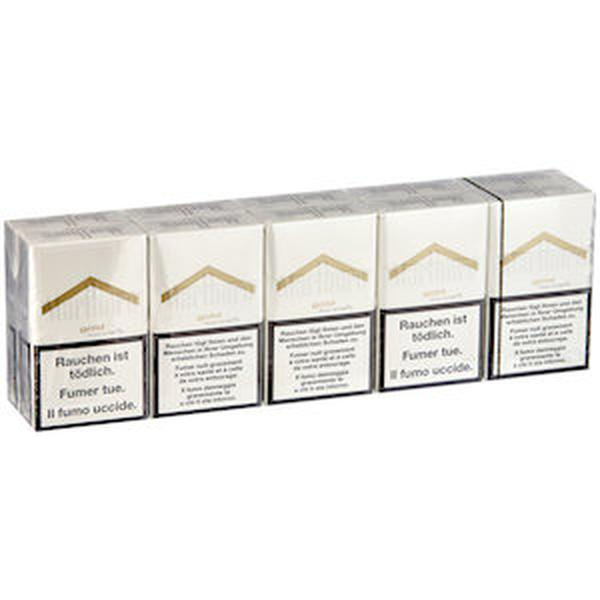marlboro_gold: (32, 239, 150, 419), (152, 231, 267, 406), (268, 222, 375, 392), (485, 196, 590, 369), (380, 212, 485, 382)
